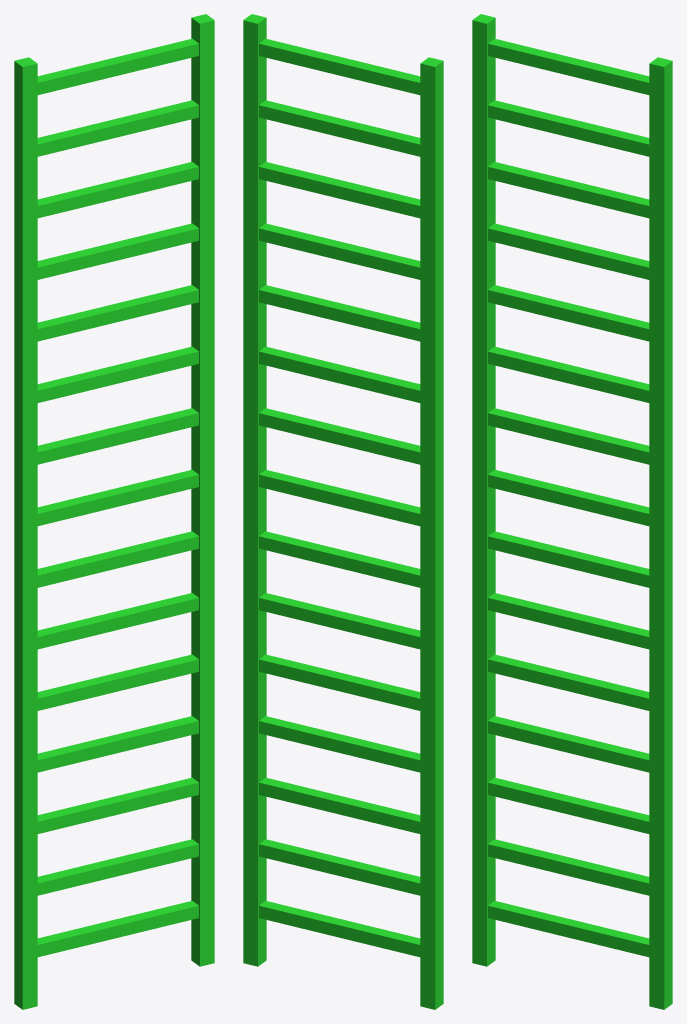
File: ladder.glb
The picture shows the model from 3 angles, left to right: view 1: azimuth 30°, elevation 25°; view 2: azimuth 150°, elevation 25°; view 3: azimuth 330°, elevation 25°; orthographic projection.
Visible parts, largest first — view 1: ladder; view 2: ladder; view 3: ladder.
Boxes of the visible parts, x1=… form: ladder: x1=14, y1=14, x2=214, y2=1009; ladder: x1=243, y1=14, x2=443, y2=1009; ladder: x1=472, y1=14, x2=672, y2=1009.
Size of the model in its own units: 2.13 by 10 by 0.1647.
